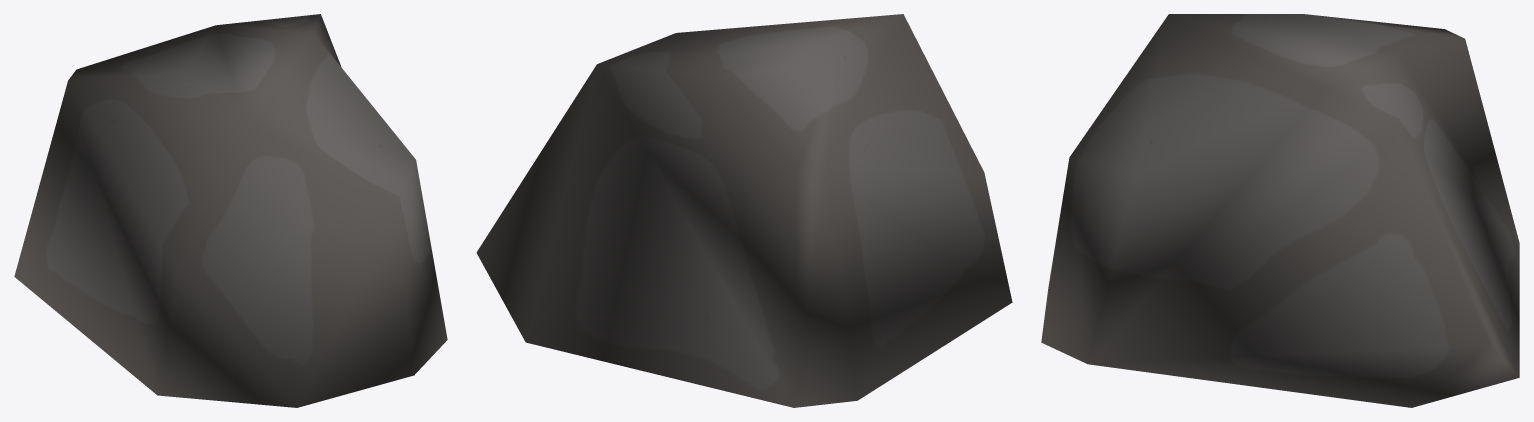
The model's file is rocks3.fbx.
3 views of the same model, side by side, from view 1: azimuth 30°, elevation 25°; view 2: azimuth 150°, elevation 25°; view 3: azimuth 270°, elevation 25° (orthographic). The views are drawn at different scales.
Visible parts, largest first — view 1: rocks3; view 2: rocks3; view 3: rocks3.
Part boxes in pixels (x1,y1,x2,y2): rocks3: (14,14,447,407); rocks3: (476,14,1012,407); rocks3: (1041,14,1519,407).
Size of the model in its own units: 527 by 363 by 571.
1 material, 1 textured.
